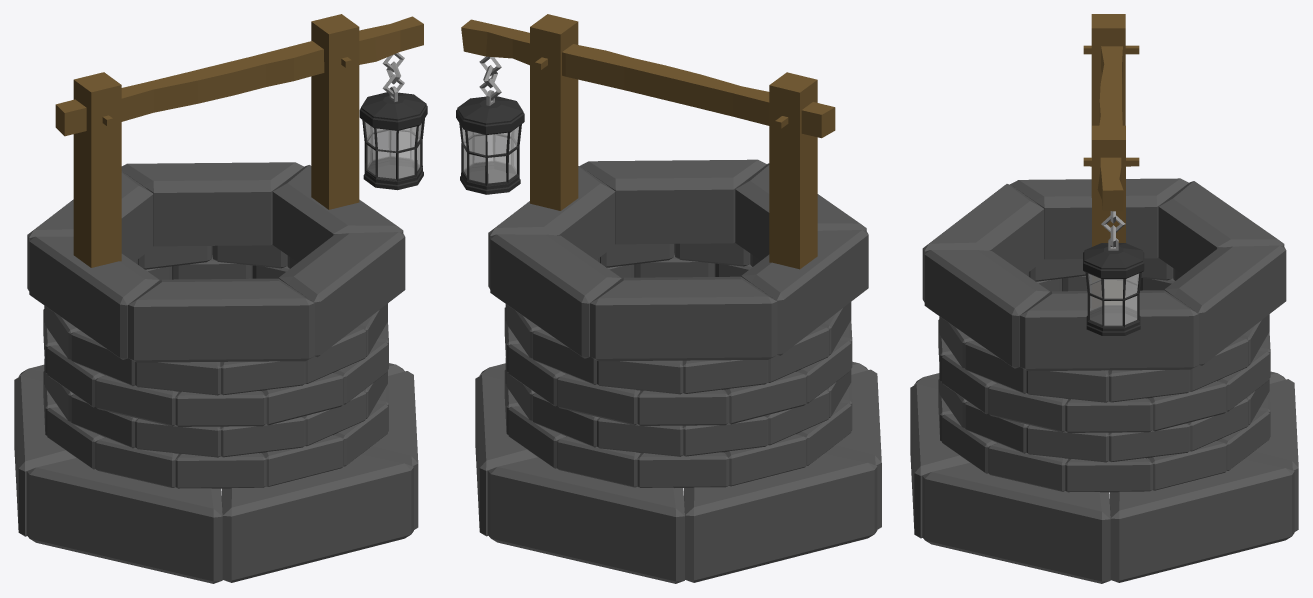
Rendered from kuyu.fbx.
3 views of the same model, side by side, from view 1: azimuth 30°, elevation 25°; view 2: azimuth 150°, elevation 25°; view 3: azimuth 270°, elevation 25° (orthographic). The views are drawn at different scales.
Visible parts, largest first — view 1: Circle.009; view 2: Circle.009; view 3: Circle.009.
Boxes of the visible parts, x1,y1,x2,y2 form: Circle.009: (14,14,427,583); Circle.009: (456,14,881,583); Circle.009: (910,14,1298,583).
Size of the model in its own units: 115 by 118 by 99.29.
